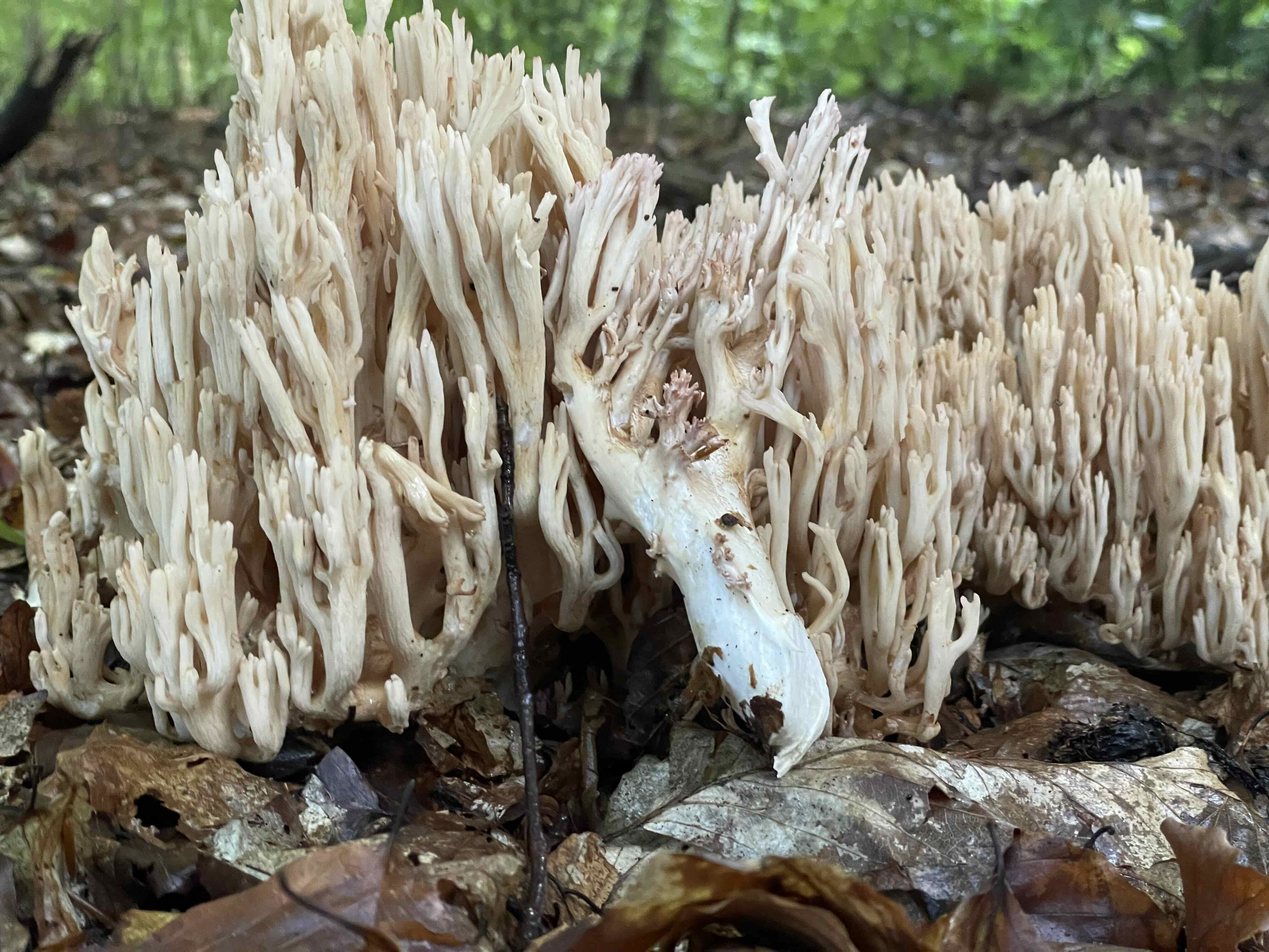coral: (19, 0, 1269, 774)
